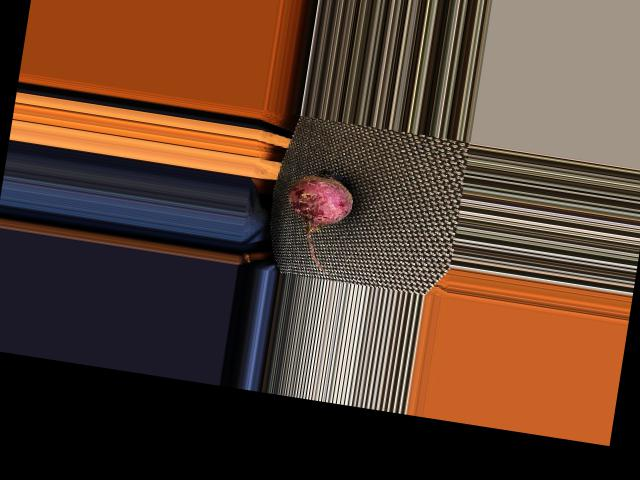beet: (276, 163, 356, 273)
